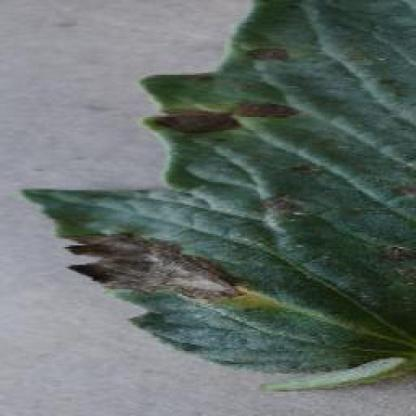Tomato_Blight: (25, 0, 416, 384)
